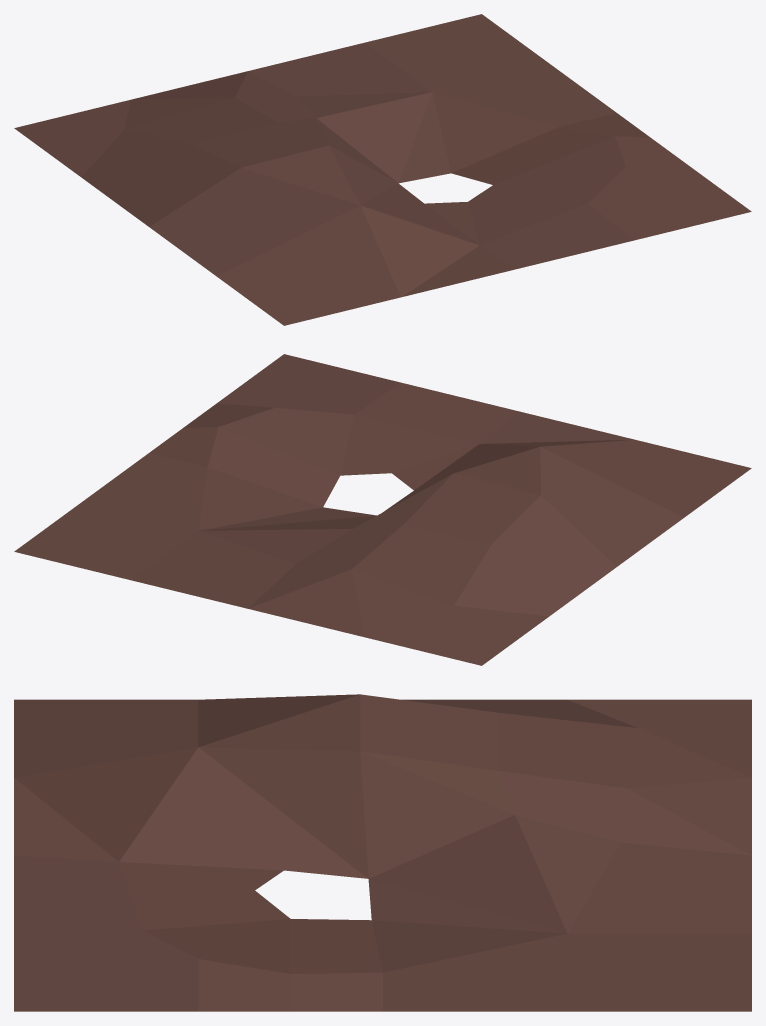
The model's file is FloorHole06.fbx.
3 renders of one model, top to bottom at view 1: azimuth 30°, elevation 25°; view 2: azimuth 150°, elevation 25°; view 3: azimuth 270°, elevation 25°, orthographic. The views are drawn at different scales.
Visible parts, largest first — view 1: FloorHole06; view 2: FloorHole06; view 3: FloorHole06.
Boxes of the visible parts, <box> form: FloorHole06: <box>14,14,751,325</box>; FloorHole06: <box>14,354,751,665</box>; FloorHole06: <box>14,694,751,1011</box>.
Size of the model in its own units: 2032 by 257 by 2032.
